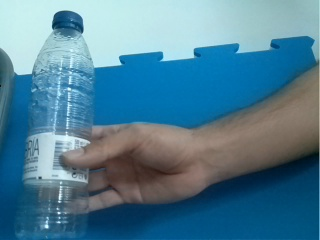botella plastico: (17, 10, 95, 240)
